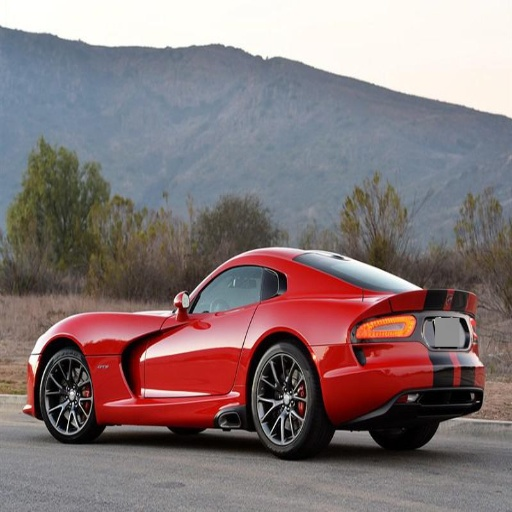back_bumper: (320, 339, 485, 423)
back_glass: (307, 253, 393, 286)
back_left_door: (216, 264, 268, 339)
trunk: (411, 297, 474, 348)
